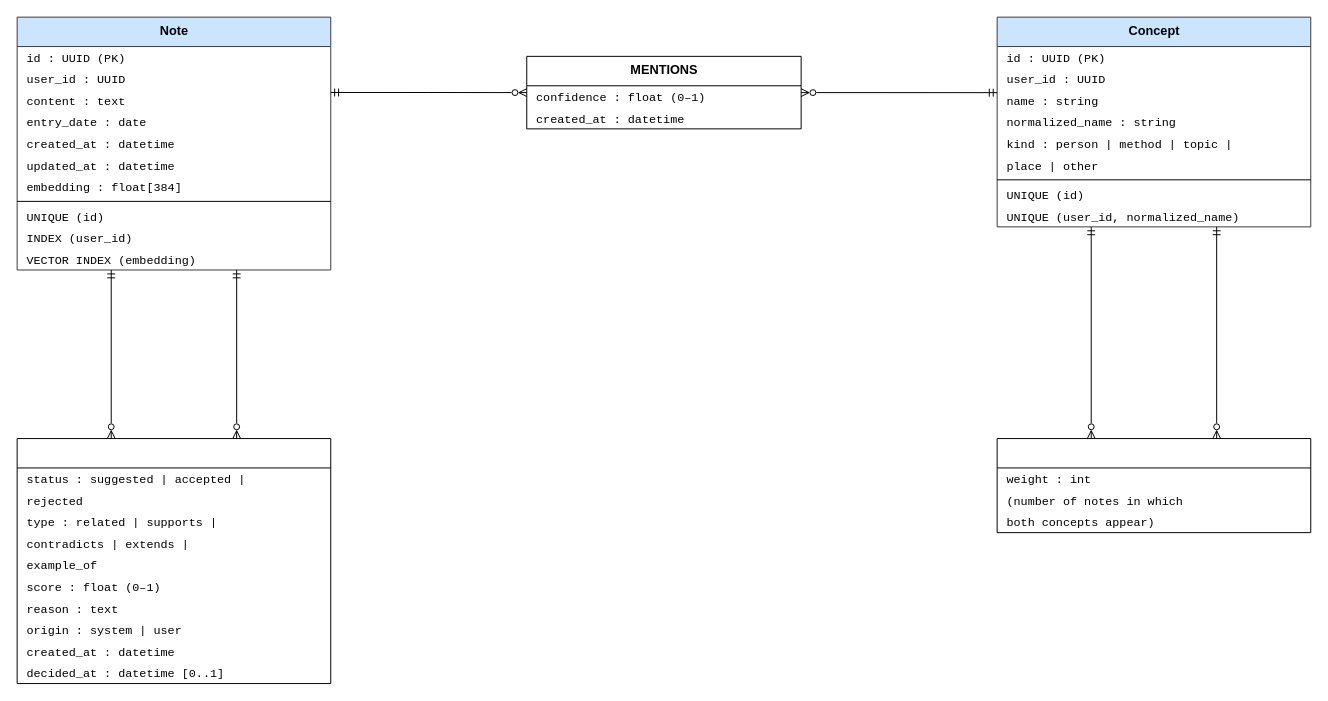
The diagram is 1328 pixels wide and 701 high, and some of its shapes have lost their labels. The shapes that lost their labels are listed below. From the top down, each one's box as (x1, y1, x2, y2) in pixels, then its label:
(996, 438, 1311, 533): RELATED_TO
(16, 438, 331, 684): LINKED_TO
